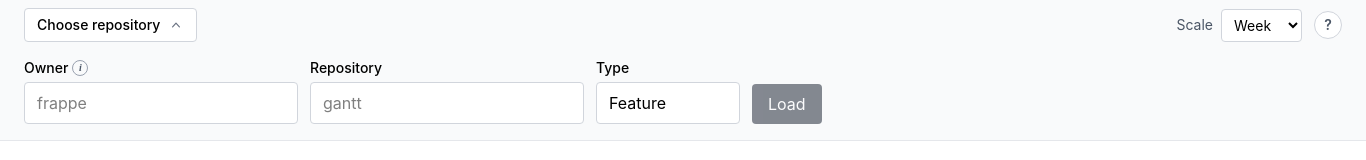
Scenario: BoardToolbar › loads from the form, saves the choice, and closes
This screenshot has width=1366, height=160.
Type "acme" into the field with id "owner" at (161, 103), box [24,82,298,124]
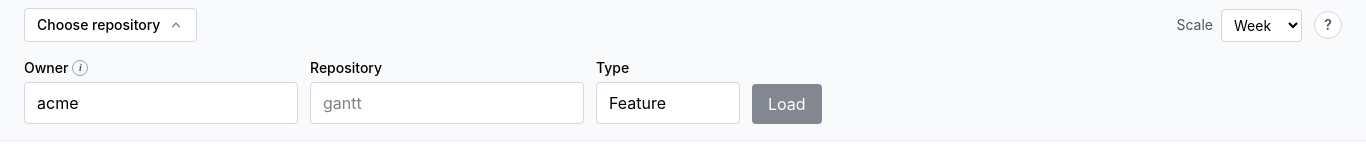
Type "widgets" into the field with id "repo" at (447, 103), box [310,82,584,124]
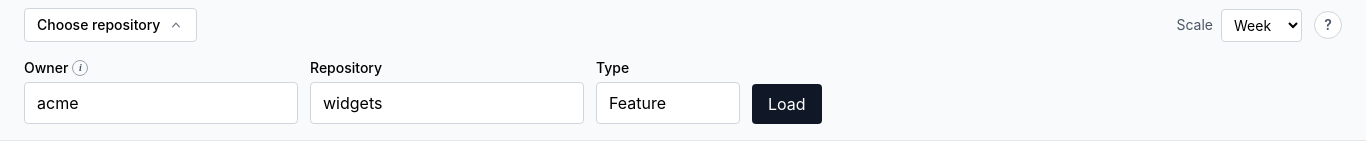
Clear the field with id "issue-type" at (668, 103), box [596,82,740,124]
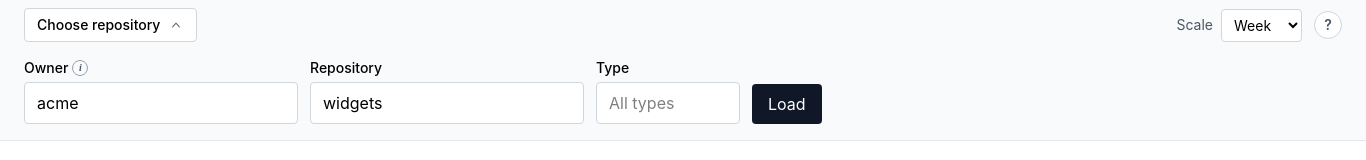
Submit the form, box [24,59,822,124]
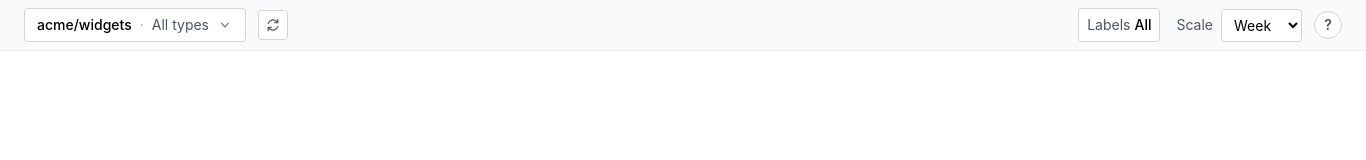
Result: the button "acme/widgets · All types" is shown at [24,8,246,42]
